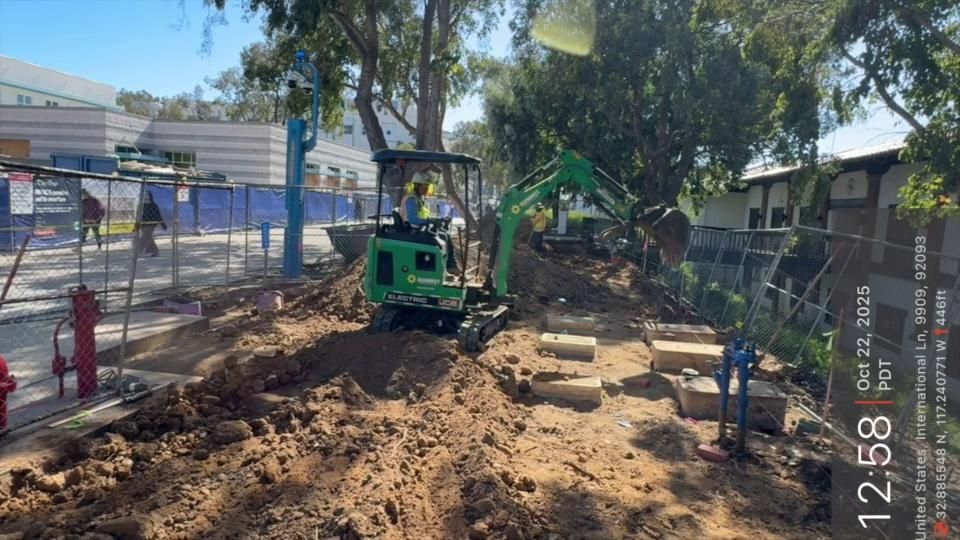Exacavator: (360, 145, 691, 353)
